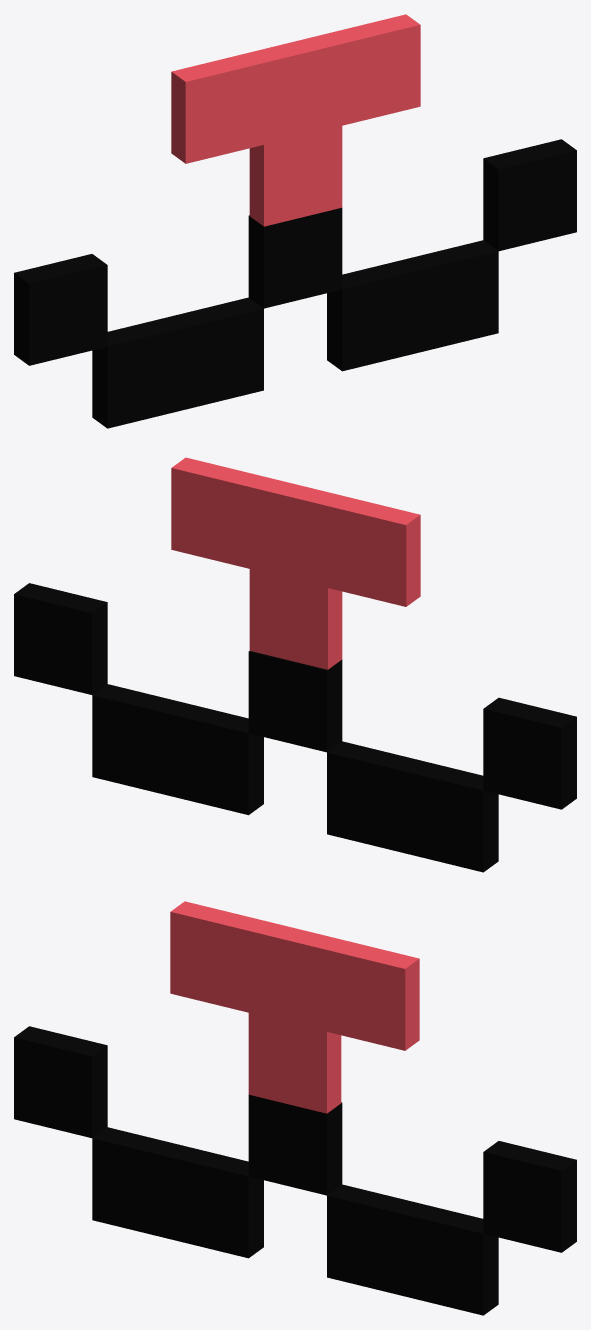
The model's file is RabbitMouth.fbx.
The picture shows the model from 3 angles, top to bottom: view 1: azimuth 30°, elevation 25°; view 2: azimuth 150°, elevation 25°; view 3: azimuth 330°, elevation 25°; orthographic projection.
Parts seen in each view (by area): view 1: Cube.025; view 2: Cube.025; view 3: Cube.025.
Boxes of the visible parts, box(x1,y1,x2,y2) form: Cube.025: box(14, 14, 576, 428); Cube.025: box(14, 457, 576, 872); Cube.025: box(14, 901, 576, 1315).
Size of the model in its own units: 66.56 by 38.04 by 3.21.
